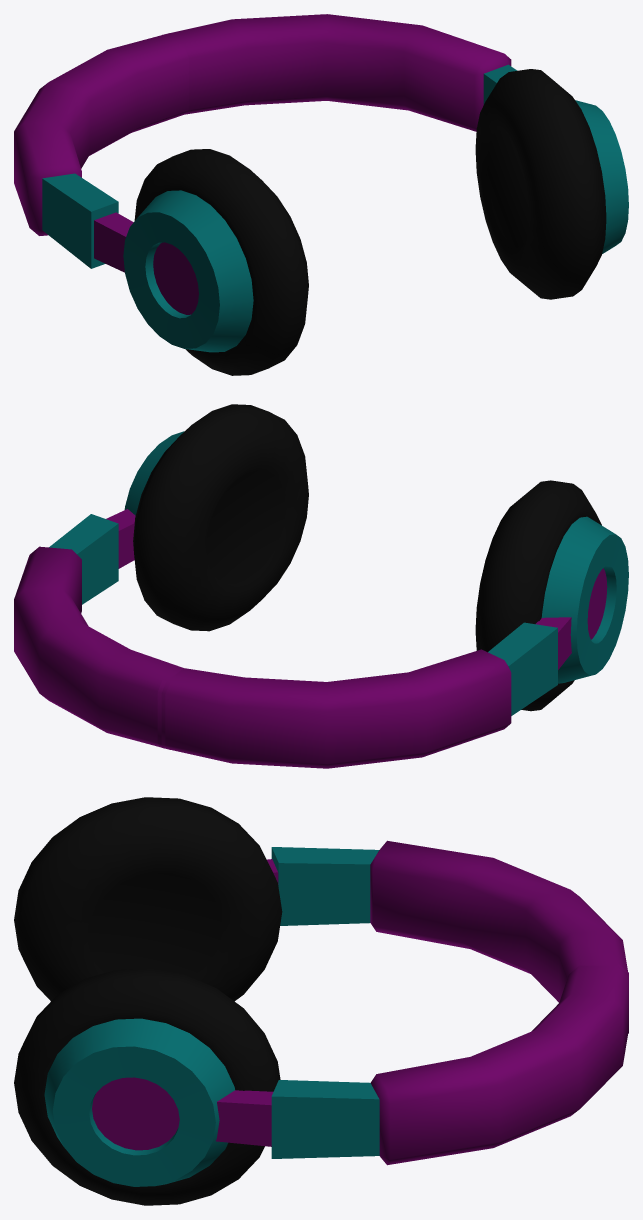
The model's file is Headphones_01.fbx.
The picture shows the model from 3 angles, top to bottom: view 1: azimuth 30°, elevation 25°; view 2: azimuth 150°, elevation 25°; view 3: azimuth 270°, elevation 25°; orthographic projection. The views are drawn at different scales.
Visible parts, largest first — view 1: Headphones_01; view 2: Headphones_01; view 3: Headphones_01.
Boxes of the visible parts, bbox=[...] form: Headphones_01: bbox=[14, 14, 628, 375]; Headphones_01: bbox=[14, 404, 628, 768]; Headphones_01: bbox=[14, 797, 628, 1205].
Size of the model in its own units: 22.81 by 9.36 by 23.02.
